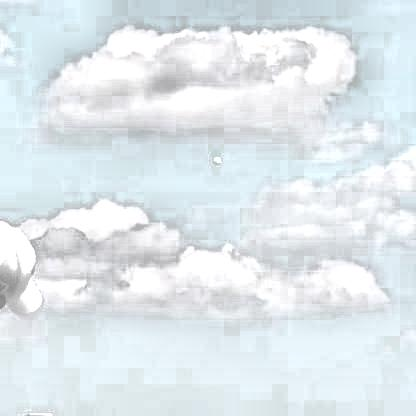golfball: (213, 154, 221, 167)
